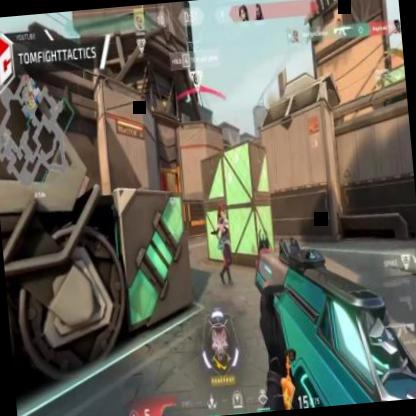enemy: (209, 203, 235, 285)
enemy_head: (219, 206, 225, 220)
